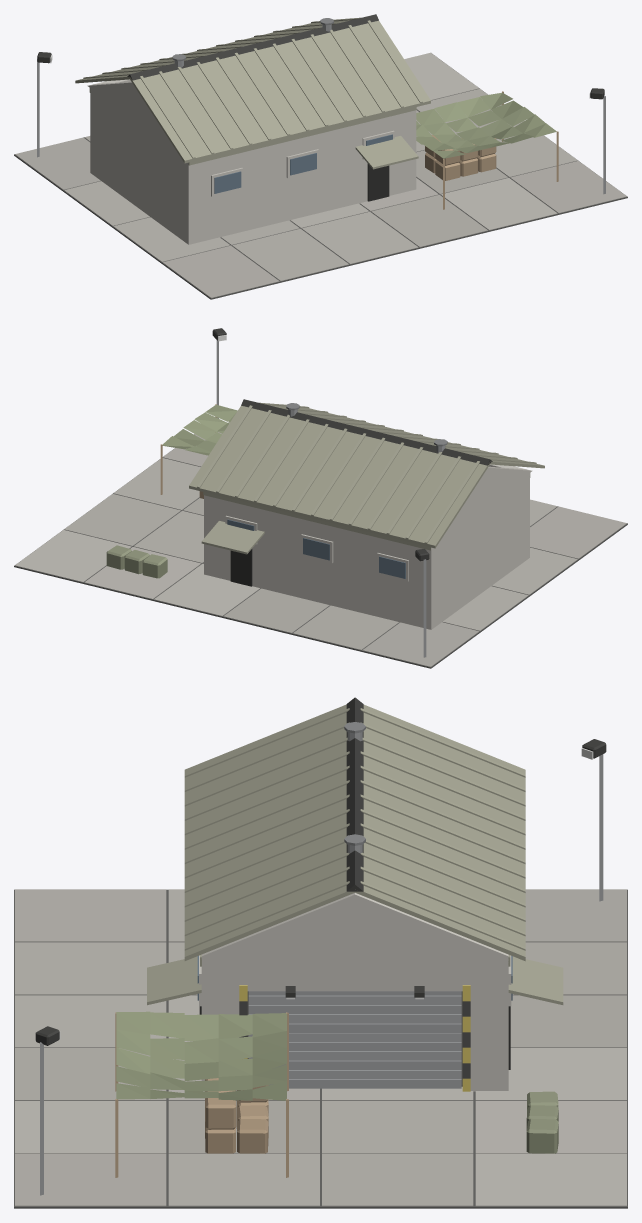
Rendered from b_supply.glb.
The picture shows the model from 3 angles, top to bottom: view 1: azimuth 30°, elevation 25°; view 2: azimuth 150°, elevation 25°; view 3: azimuth 270°, elevation 25°; orthographic projection. The views are drawn at different scales.
Parts seen in each view (by area): view 1: hull; view 2: hull; view 3: hull, door.
Boxes of the visible parts, x1,y1,x2,y2 form: hull: [14, 14, 627, 299]; hull: [14, 328, 627, 668]; hull: [14, 697, 627, 1208]; door: [248, 991, 461, 1088].
Size of the model in its own units: 22 by 7.25 by 18.
